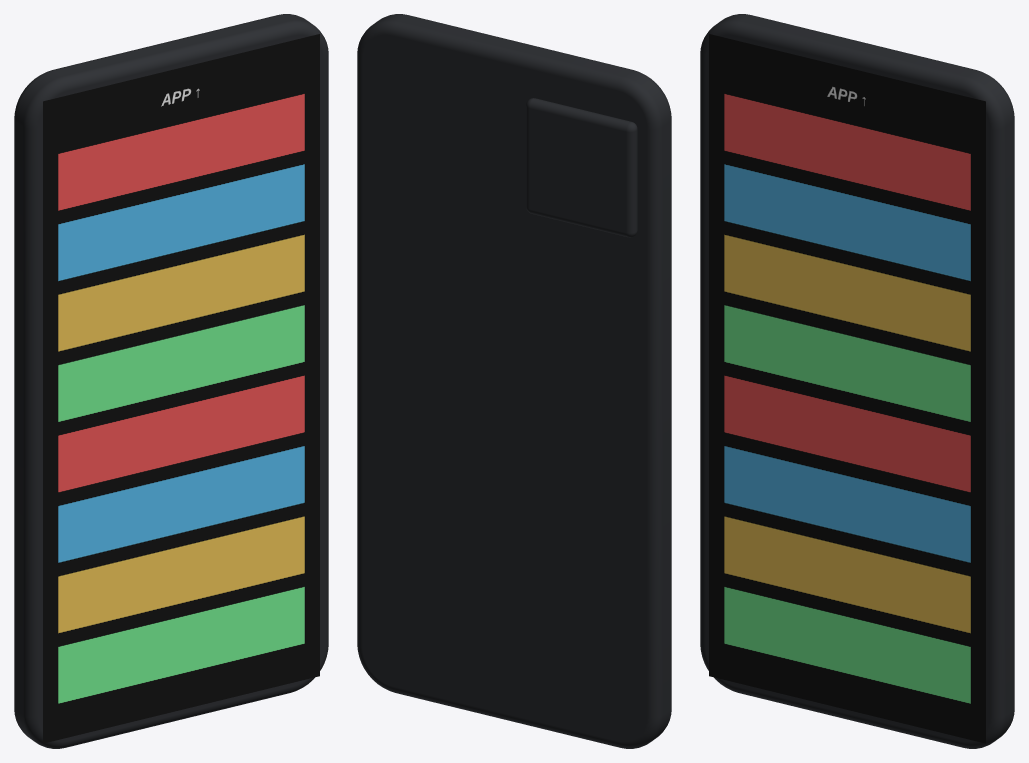
File: phone.glb
The picture shows the model from 3 angles, left to right: view 1: azimuth 30°, elevation 25°; view 2: azimuth 150°, elevation 25°; view 3: azimuth 330°, elevation 25°; orthographic projection.
Visible parts, largest first — view 1: screen, body; view 2: body, camera; view 3: screen, body.
Boxes of the visible parts, x1,y1,x2,y2 form: screen: (43, 34, 319, 743); body: (14, 14, 328, 748); body: (357, 14, 671, 748); camera: (526, 98, 637, 237); screen: (709, 34, 985, 743); body: (700, 14, 1014, 748).
Size of the model in its own units: 0.74 by 1.56 by 0.1076.
3 materials, 1 textured.
